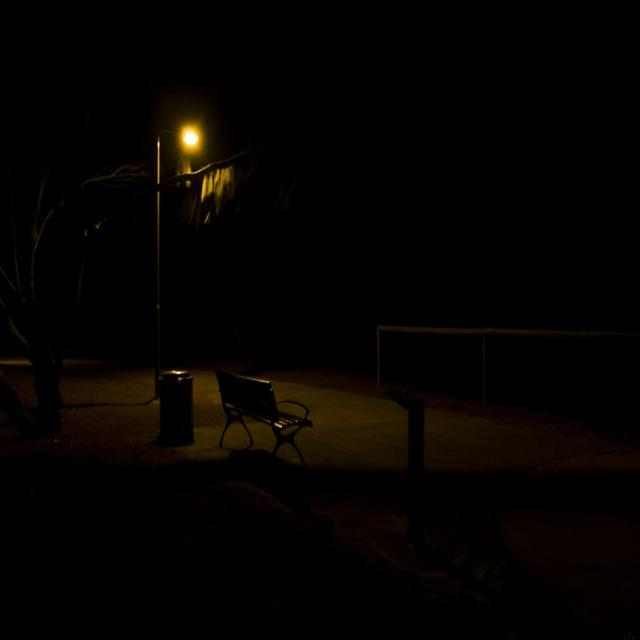chair: (219, 322, 312, 474)
